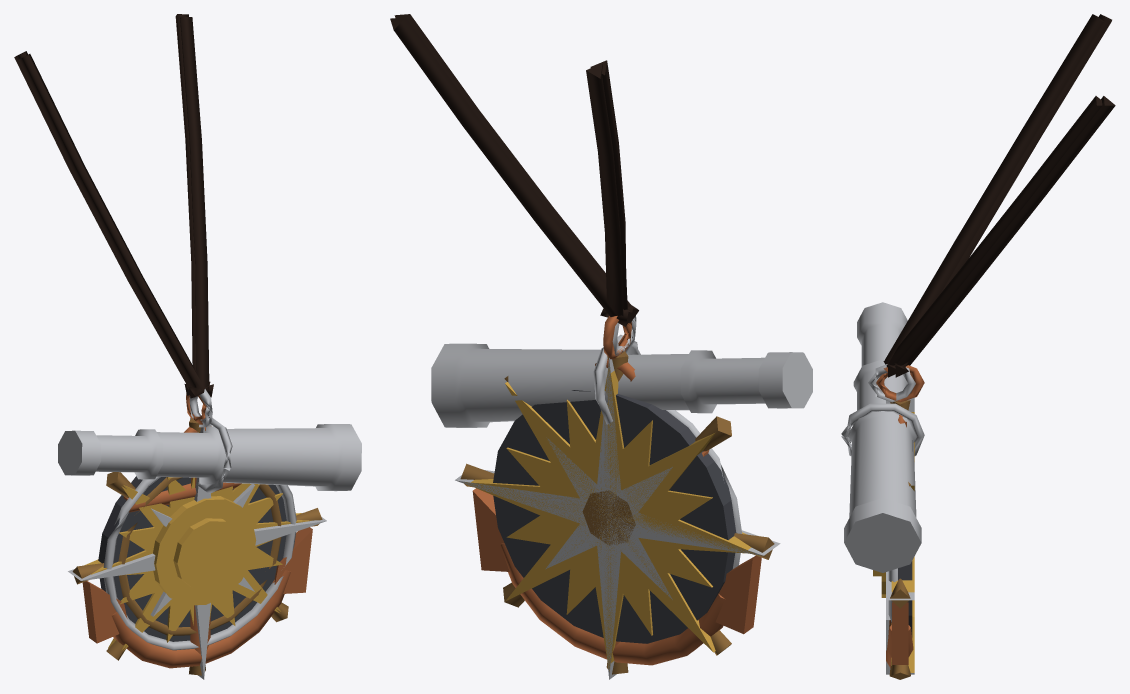
Rendered from pendants.glb.
The picture shows the model from 3 angles, left to right: view 1: azimuth 30°, elevation 25°; view 2: azimuth 150°, elevation 25°; view 3: azimuth 270°, elevation 25°; orthographic projection. The views are drawn at different scales.
Parts seen in each view (by area): view 1: spyglass, sunburst, compass-rose, anchor, wheel; view 2: compass-rose, sunburst, spyglass, anchor, wheel; view 3: spyglass, anchor, compass-rose, wheel, sunburst.
Boxes of the visible parts, x1=… form: spyglass: x1=18, y1=16, x2=361, y2=493; sunburst: x1=84, y1=477, x2=311, y2=651; compass-rose: x1=68, y1=418, x2=326, y2=679; anchor: x1=14, y1=14, x2=312, y2=668; wheel: x1=72, y1=418, x2=322, y2=675; compass-rose: x1=455, y1=358, x2=780, y2=679; sunburst: x1=463, y1=364, x2=754, y2=671; spyglass: x1=394, y1=14, x2=812, y2=427; anchor: x1=390, y1=17, x2=761, y2=665; wheel: x1=460, y1=351, x2=774, y2=674; spyglass: x1=841, y1=14, x2=1103, y2=572; anchor: x1=876, y1=14, x2=1115, y2=667; compass-rose: x1=886, y1=397, x2=914, y2=674; wheel: x1=889, y1=400, x2=910, y2=679; sunburst: x1=873, y1=412, x2=914, y2=672.
Size of the model in its own units: 0.0297 by 0.057 by 0.0229.
